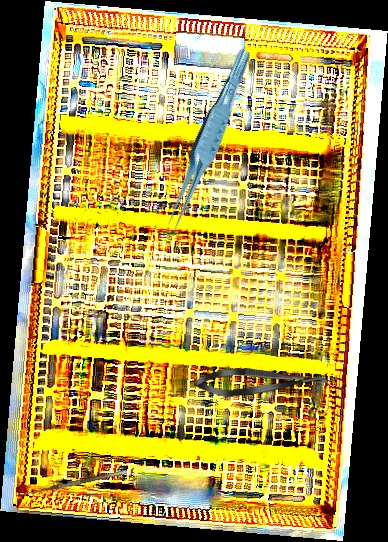Hook Surgical: (15, 469, 129, 504)
Micro Scissor: (193, 366, 331, 398)
Tissue Forceps: (150, 47, 265, 235)
